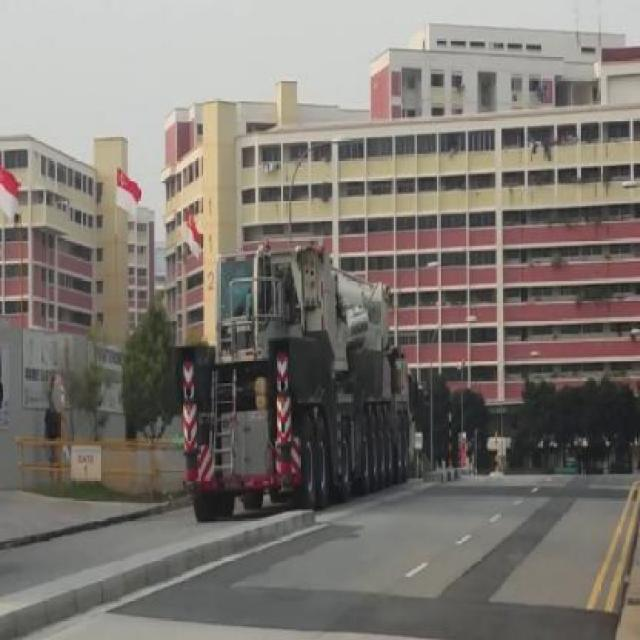Mobile Crane: (183, 246, 409, 519)
